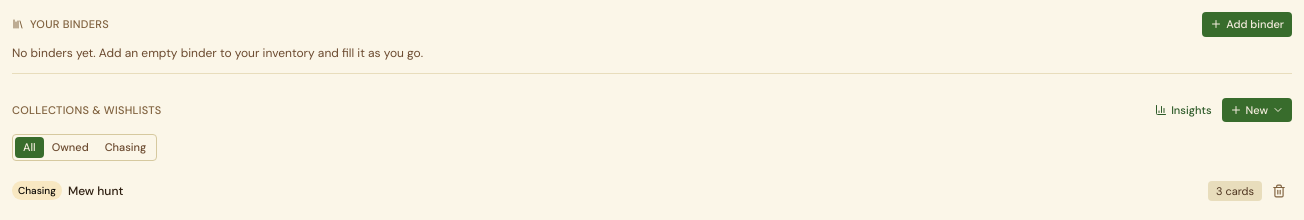
it: LibraryBindersTab › deletes a want-list after the inline confirm
This screenshot has width=1304, height=220.
Expected: the text "Mew hunt" is shown, x1=68 y1=183 x2=123 y2=199
Click the button named "delete wishlist \"Mew hunt\"": (1279,191) x1=1266 y1=178 x2=1292 y2=204
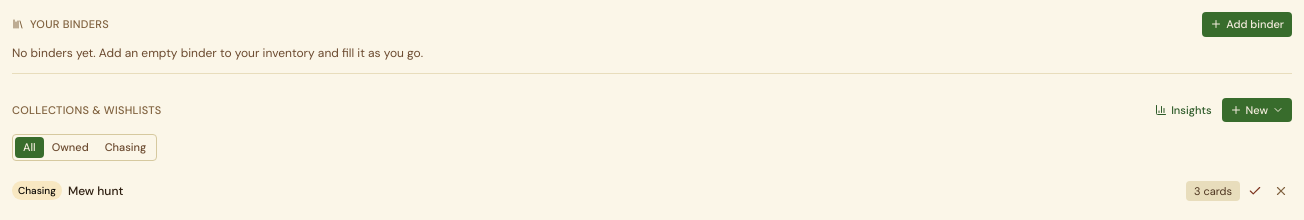
Click the button named "confirm delete wishlist \"Mew hunt\"": (1255,191) x1=1244 y1=180 x2=1266 y2=202
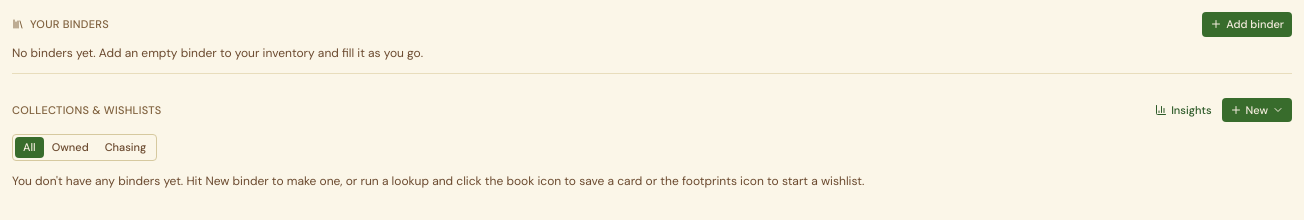
Expected: the button "Mew hunt" is gone
